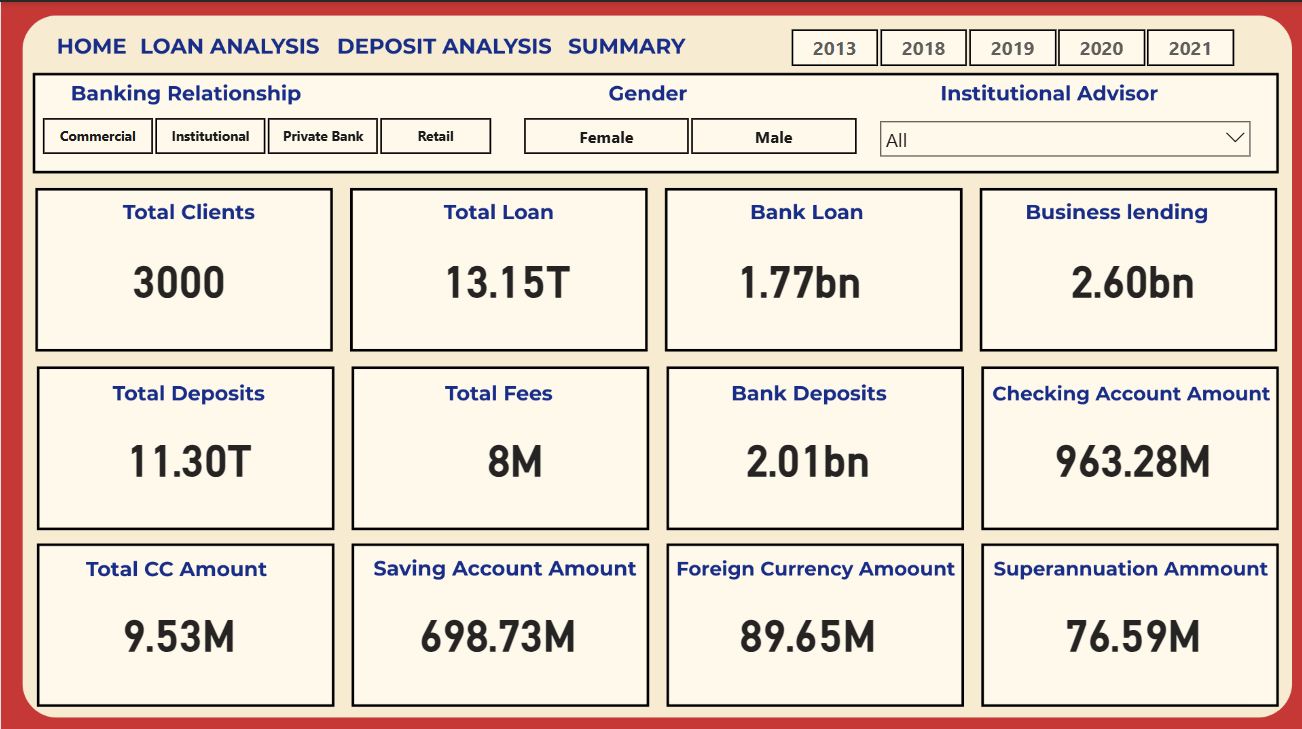

The dashboard page shown, as its layout file describes it:
{"tool":"powerbi","page":{"name":"Summary","canvas":[1280,720],"ordinal":3},"visuals":[{"type":"slicer","fields":{"Values":["Banking.BRId"]},"box":[14.8,106.2,490.1,49.4],"z":0},{"type":"slicer","fields":{"Values":["Banking.GenderId"]},"box":[487.7,106.2,376.5,49.4],"z":1000},{"type":"slicer","fields":{"Values":["Banking.IAId"]},"box":[853.1,106.2,384,49.4],"z":2000},{"type":"slicer","fields":{"Values":["Banking.joining year"]},"box":[749.7,19.6,484.7,49.1],"z":3000},{"type":"card","fields":{"Values":["CountNonNull(Banking.Client ID)"]},"box":[67.9,216,214.8,108.6],"z":4000},{"type":"card","fields":{"Values":["Sum(Banking.Saving Accounts)"]},"box":[380.2,563,214.8,108.6],"z":5000},{"type":"card","fields":{"Values":["Sum(Banking.Fee Ammnt)"]},"box":[397.5,391.4,214.8,108.6],"z":6000},{"type":"card","fields":{"Values":["Sum(Banking.total loan)"]},"box":[380.2,216,232.1,108.6],"z":7000},{"type":"card","fields":{"Values":["Sum(Banking.Total deposits)"]},"box":[77.8,391.4,214.8,108.6],"z":8000},{"type":"card","fields":{"Values":["Sum(Banking.Credit Card Balance)"]},"box":[67.9,563,214.8,108.6],"z":9000},{"type":"card","fields":{"Values":["Sum(Banking.Foreign Currency Account)"]},"box":[685.2,563,214.8,108.6],"z":10000},{"type":"card","fields":{"Values":["Sum(Banking.Checking Accounts)"]},"box":[1003.7,391.4,214.8,108.6],"z":11000},{"type":"card","fields":{"Values":["Sum(Banking.Bank Deposits)"]},"box":[685.2,391.4,214.8,108.6],"z":12000},{"type":"card","fields":{"Values":["Sum(Banking.Business Lending)"]},"box":[1003.7,216,214.8,108.6],"z":13000},{"type":"card","fields":{"Values":["Sum(Banking.Bank Loans)"]},"box":[676.5,216,214.8,108.6],"z":14000},{"type":"card","fields":{"Values":["Sum(Banking.Superannuation Savings)"]},"box":[1003.7,563,214.8,108.6],"z":15000},{"type":"actionButton","box":[132.1,19.8,185.2,40.7],"z":16000},{"type":"actionButton","box":[329.6,24.7,212.3,40.7],"z":17000},{"type":"actionButton","box":[555.6,19.8,121,40.7],"z":18000},{"type":"actionButton","box":[49.4,19.8,82.7,40.7],"z":19000}]}

Visuals, with their boxes in screenshot pixels (x1, y1, x2, y2), scaled from the page's 1280x720 canvas onto the 1302x729 screenshot:
slicer - Banking.BRId: 15, 108, 514, 158
slicer - Banking.GenderId: 496, 108, 879, 158
slicer - Banking.IAId: 868, 108, 1258, 158
slicer - Banking.joining year: 763, 20, 1256, 70
card - CountNonNull(Banking.Client ID): 69, 219, 288, 329
card - Sum(Banking.Saving Accounts): 387, 570, 605, 680
card - Sum(Banking.Fee Ammnt): 404, 396, 623, 506
card - Sum(Banking.total loan): 387, 219, 623, 329
card - Sum(Banking.Total deposits): 79, 396, 298, 506
card - Sum(Banking.Credit Card Balance): 69, 570, 288, 680
card - Sum(Banking.Foreign Currency Account): 697, 570, 915, 680
card - Sum(Banking.Checking Accounts): 1021, 396, 1239, 506
card - Sum(Banking.Bank Deposits): 697, 396, 915, 506
card - Sum(Banking.Business Lending): 1021, 219, 1239, 329
card - Sum(Banking.Bank Loans): 688, 219, 907, 329
card - Sum(Banking.Superannuation Savings): 1021, 570, 1239, 680
actionButton: 134, 20, 323, 61
actionButton: 335, 25, 551, 66
actionButton: 565, 20, 688, 61
actionButton: 50, 20, 134, 61
